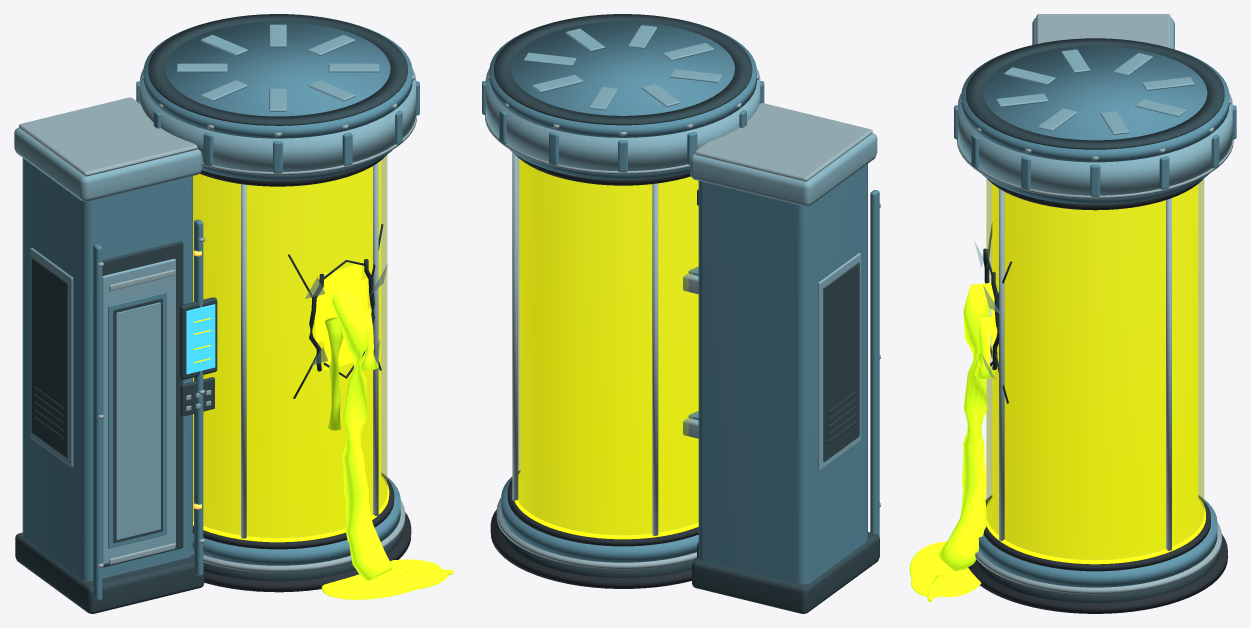
The model's file is BlueTube_CrackedOozing_StudioTextured.glb.
3 renders of one model, left to right at view 1: azimuth 30°, elevation 25°; view 2: azimuth 150°, elevation 25°; view 3: azimuth 270°, elevation 25°, orthographic.
Parts seen in each view (by area): view 1: Tube_Glossy_cobalt_blue_enamel, Tube_Neon_yellow_energy_core, Tube_Cracked_yellow_glass_shell, Tube_Worn_light_blue_panels, Tube_Recessed_graphite, Tube_Polished_steel_edge, Tube_Fluorescent_ooze, Tube_Dark_rubber_gasket, Tube_Diagnostic_screen, Tube_Indicator_neon_yellow, Tube_Glass_fractures, Tube_Thick_residue; view 2: Tube_Glossy_cobalt_blue_enamel, Tube_Cracked_yellow_glass_shell, Tube_Neon_yellow_energy_core, Tube_Recessed_graphite, Tube_Worn_light_blue_panels, Tube_Polished_steel_edge, Tube_Dark_rubber_gasket, Tube_Indicator_neon_yellow; view 3: Tube_Cracked_yellow_glass_shell, Tube_Neon_yellow_energy_core, Tube_Glossy_cobalt_blue_enamel, Tube_Worn_light_blue_panels, Tube_Polished_steel_edge, Tube_Fluorescent_ooze, Tube_Recessed_graphite, Tube_Dark_rubber_gasket, Tube_Indicator_neon_yellow, Tube_Glass_fractures.
Boxes of the visible parts, x1,y1,x2,y2 form: Tube_Glossy_cobalt_blue_enamel: (22, 19, 419, 600); Tube_Neon_yellow_energy_core: (193, 160, 381, 535); Tube_Cracked_yellow_glass_shell: (193, 155, 387, 537); Tube_Worn_light_blue_panels: (14, 24, 416, 564); Tube_Recessed_graphite: (15, 14, 407, 613); Tube_Polished_steel_edge: (19, 74, 416, 572); Tube_Fluorescent_ooze: (321, 288, 453, 599); Tube_Dark_rubber_gasket: (193, 155, 411, 592); Tube_Diagnostic_screen: (186, 304, 215, 374); Tube_Indicator_neon_yellow: (193, 318, 389, 542); Tube_Glass_fractures: (288, 224, 383, 398); Tube_Thick_residue: (325, 317, 343, 430); Tube_Glossy_cobalt_blue_enamel: (482, 20, 879, 584); Tube_Cracked_yellow_glass_shell: (517, 157, 698, 534); Tube_Neon_yellow_energy_core: (520, 159, 698, 532); Tube_Recessed_graphite: (494, 14, 879, 613); Tube_Worn_light_blue_panels: (485, 25, 877, 470); Tube_Polished_steel_edge: (485, 74, 880, 569); Tube_Dark_rubber_gasket: (490, 153, 698, 588); Tube_Indicator_neon_yellow: (514, 473, 698, 539); Tube_Cracked_yellow_glass_shell: (986, 178, 1204, 559); Tube_Neon_yellow_energy_core: (992, 184, 1198, 557); Tube_Glossy_cobalt_blue_enamel: (954, 45, 1236, 587); Tube_Worn_light_blue_panels: (957, 18, 1232, 195); Tube_Polished_steel_edge: (956, 14, 1233, 594); Tube_Fluorescent_ooze: (909, 283, 994, 601); Tube_Recessed_graphite: (966, 38, 1224, 602); Tube_Dark_rubber_gasket: (968, 178, 1227, 613); Tube_Indicator_neon_yellow: (986, 497, 1205, 564); Tube_Glass_fractures: (983, 223, 1012, 403).
Size of the model in its own units: 9.44 by 12.18 by 7.68.
14 materials, 14 textured.
